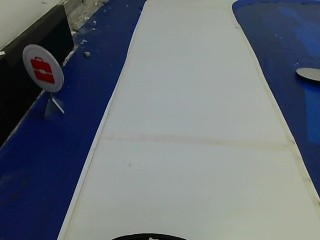company: (21, 43, 64, 90)
